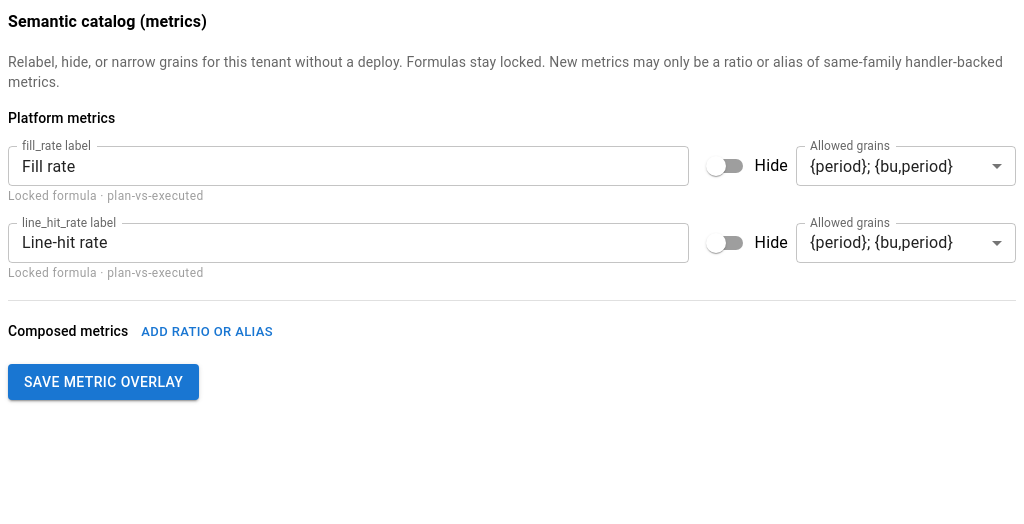
Test: SemanticCatalogOverlayPanel › composed op select offers only ratio and alias
This screenshot has width=1024, height=524.
Check: the heading "Semantic catalog (metrics)" is shown, box [8,12,207,31]
Click the button with test id "semantic-overlay-add-composed" at (207, 332), box [136,317,278,348]
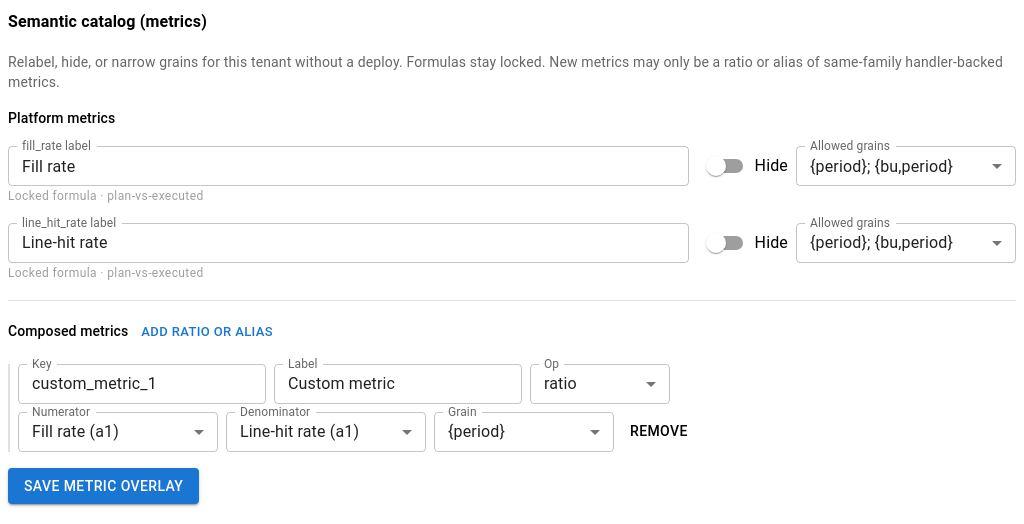
Click the dropdown named "Op" at (560, 384), box [544,374,577,393]
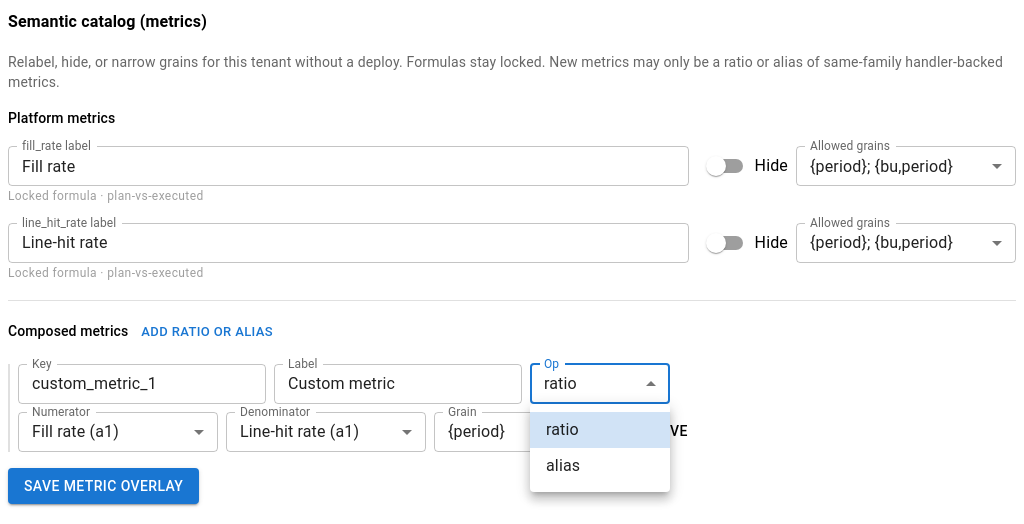
Check: the option "ratio" is shown, box [530,412,670,448]
Check: the option "alias" is shown, box [546,456,580,475]
